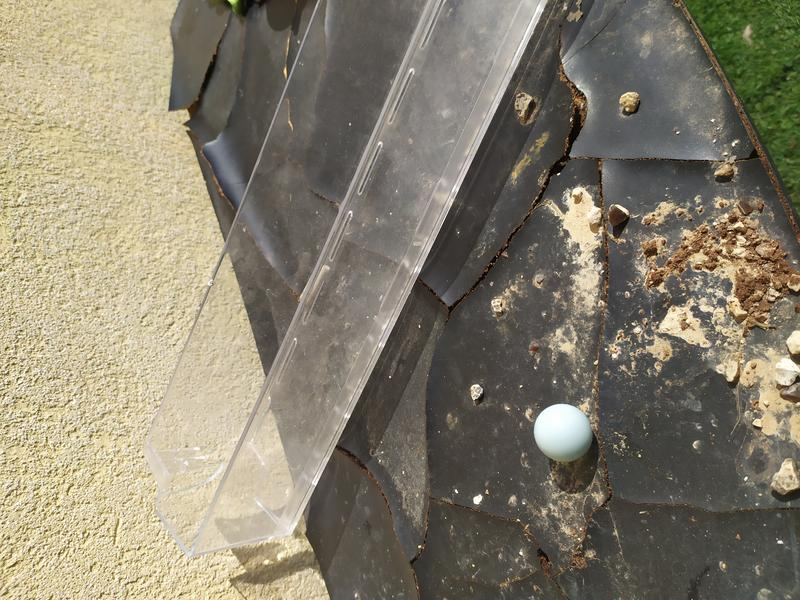Warning: (531, 401, 595, 464)
